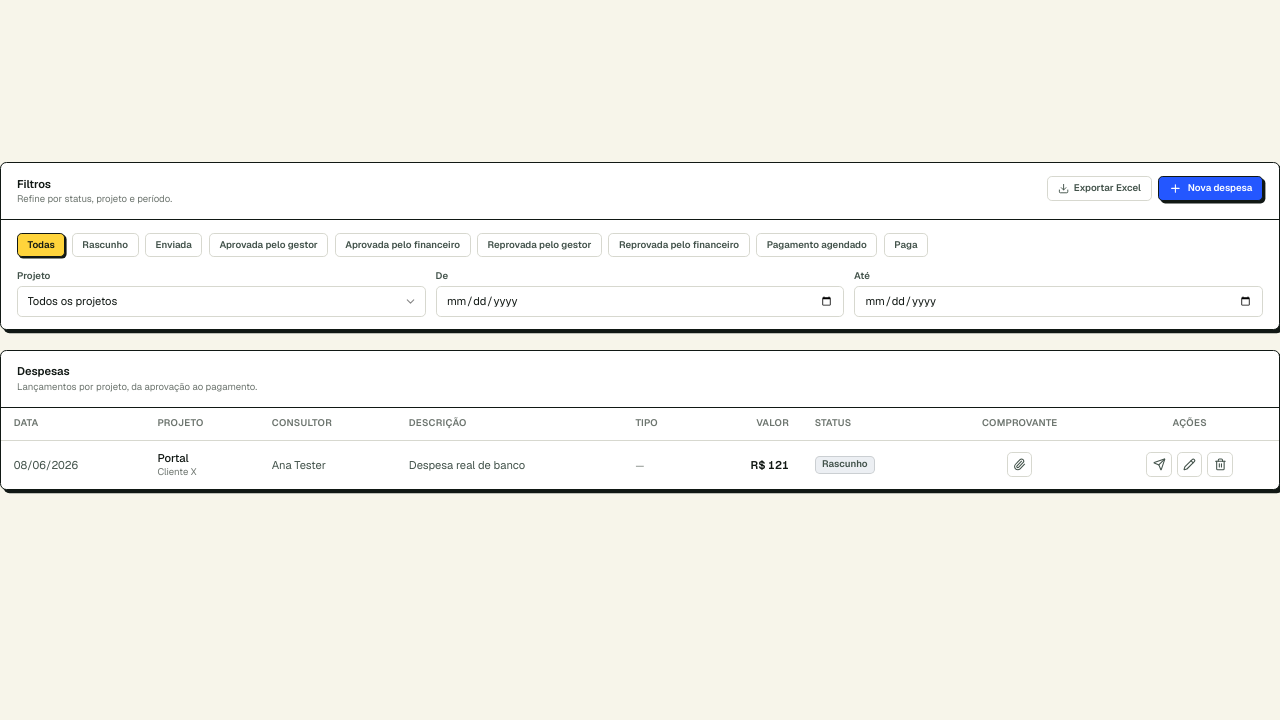
Test: ExpensesView (db mode) › submits a DRAFT through the server action
Click the button named "Enviar despesa Despesa real" at (1159, 464), box [1146,452,1172,477]
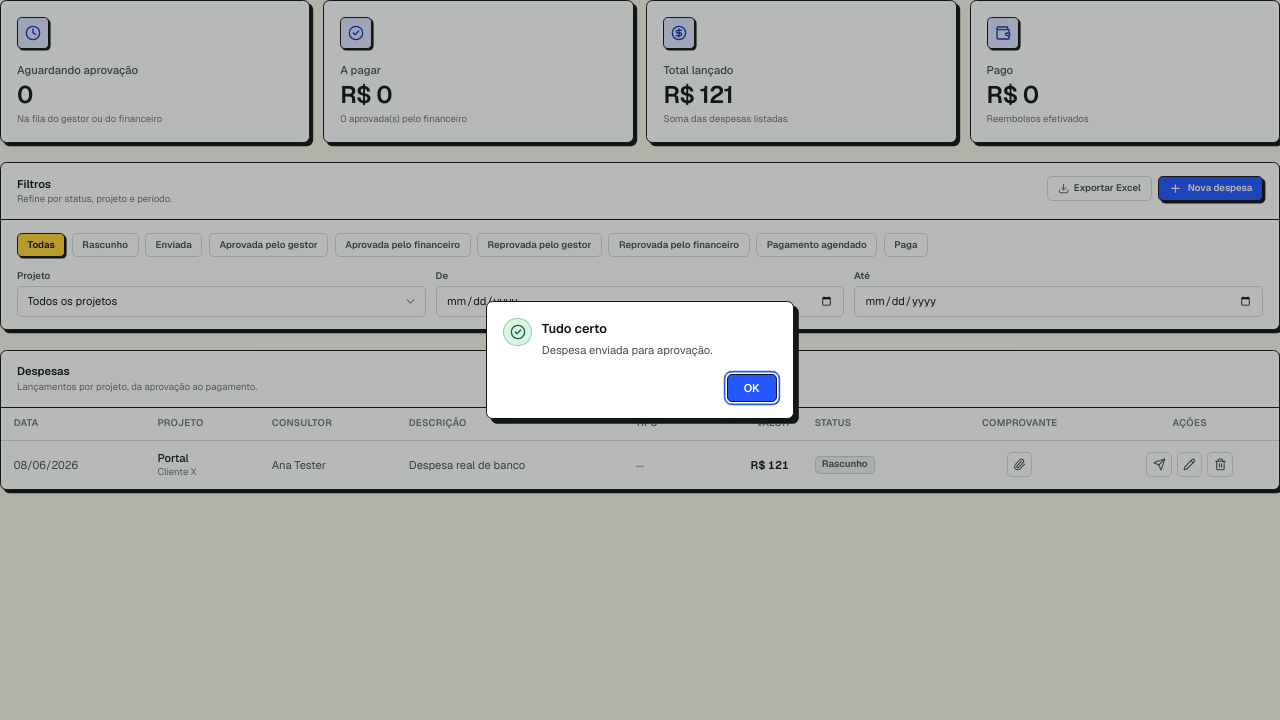
Check: the text "Despesa enviada para aprovação." is shown, box [542,342,712,358]
